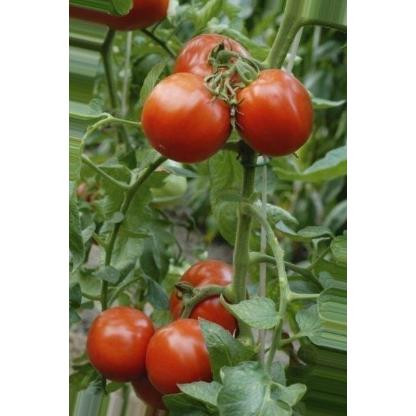tomato: (137, 312, 249, 400), (144, 62, 232, 170), (164, 245, 258, 343), (232, 66, 316, 166), (81, 298, 153, 386), (169, 26, 253, 98)
